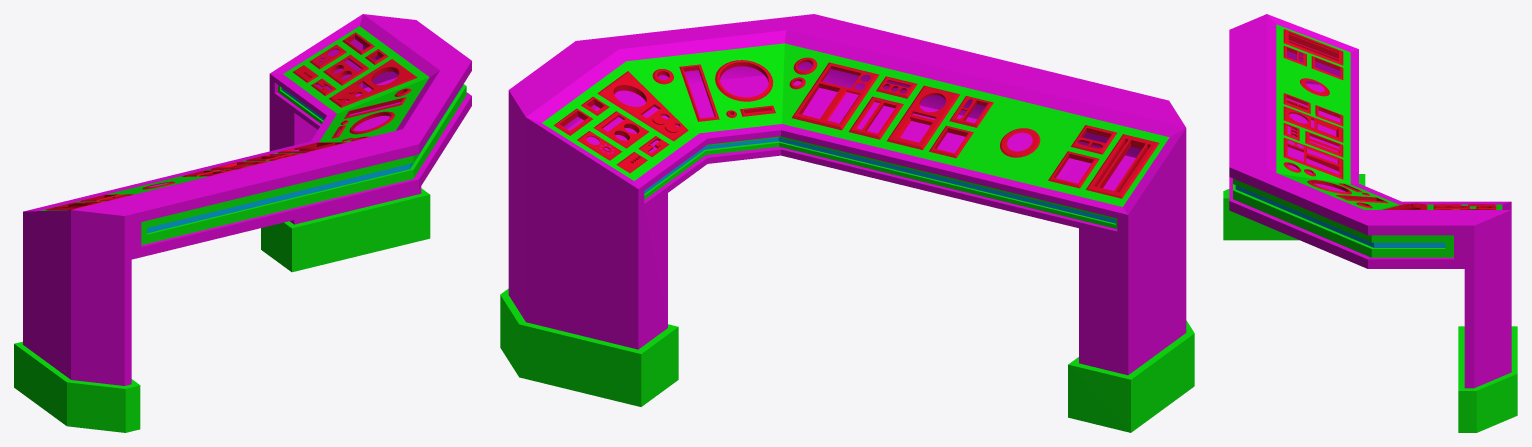
The model's file is PilotConsoleV10.fbx.
3 views of the same model, side by side, from view 1: azimuth 30°, elevation 25°; view 2: azimuth 150°, elevation 25°; view 3: azimuth 270°, elevation 25° (orthographic). The views are drawn at different scales.
Visible parts, largest first — view 1: PilotConsole, PilotConsoleLightStrip; view 2: PilotConsole, PilotConsoleLightStrip; view 3: PilotConsole, PilotConsoleLightStrip.
Part boxes in pixels (x1,y1,x2,y2): PilotConsole: (14, 14, 471, 432); PilotConsoleLightStrip: (147, 85, 462, 233); PilotConsole: (500, 14, 1194, 432); PilotConsoleLightStrip: (644, 137, 1115, 223); PilotConsole: (1223, 14, 1517, 432); PilotConsoleLightStrip: (1235, 185, 1445, 247).
Bounding box in the file's own units: 2.9 × 1.28 × 1.66.
